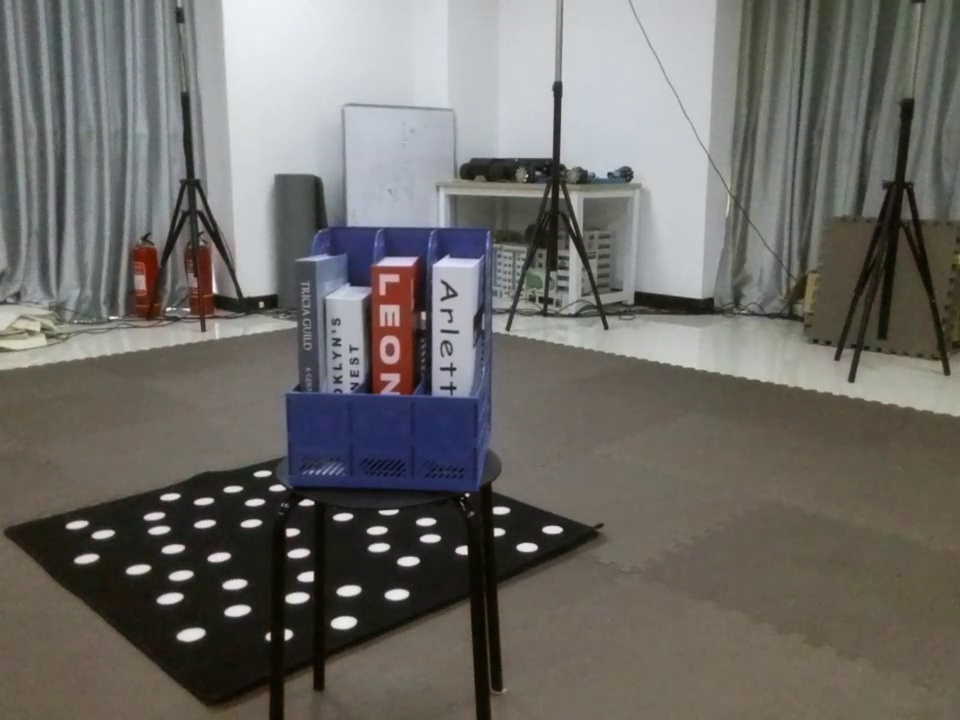files: (275, 210, 510, 500)
